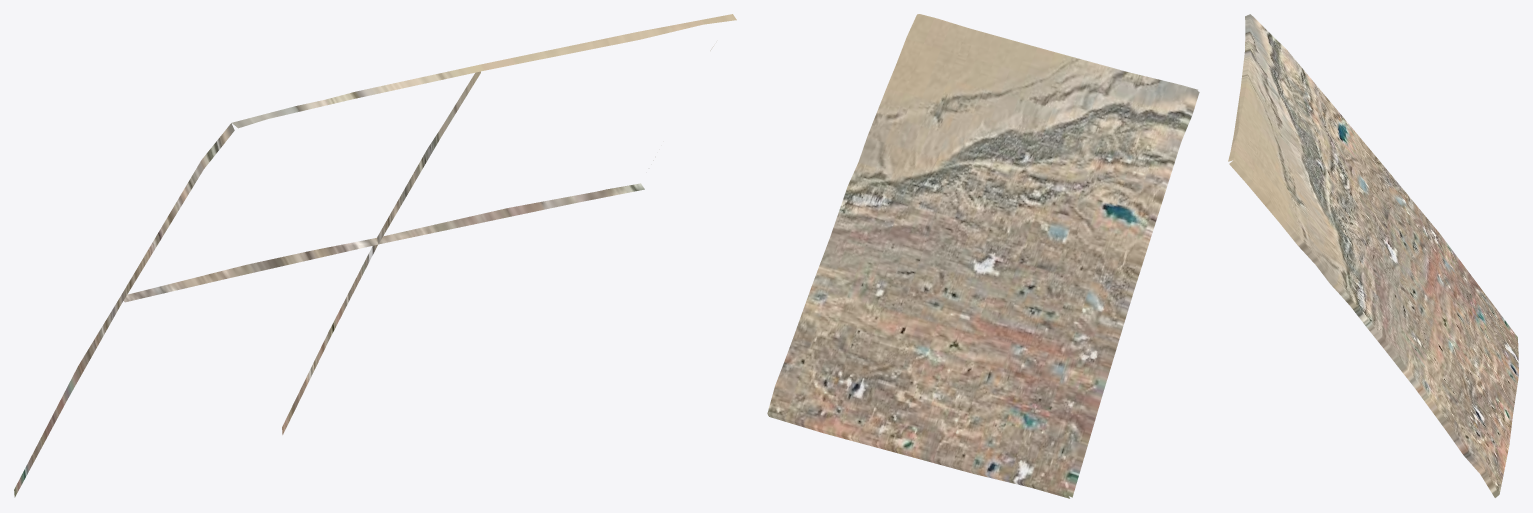
3 views of the same model, side by side, from view 1: azimuth 30°, elevation 25°; view 2: azimuth 150°, elevation 25°; view 3: azimuth 270°, elevation 25° (orthographic). The views are drawn at different scales.
Bounding box in the file's own units: 528137 × 510215 × 408759.
Materials: 1 (1 with a texture image).
